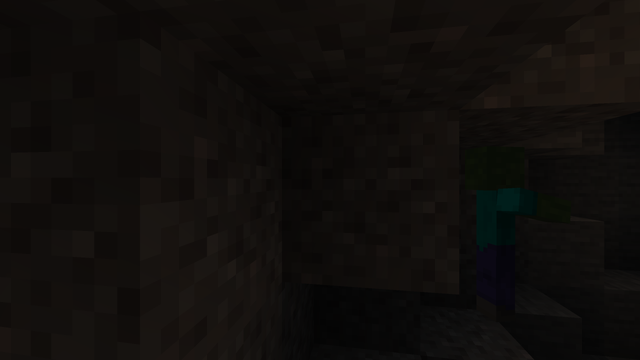zombies: (457, 150, 530, 326)
